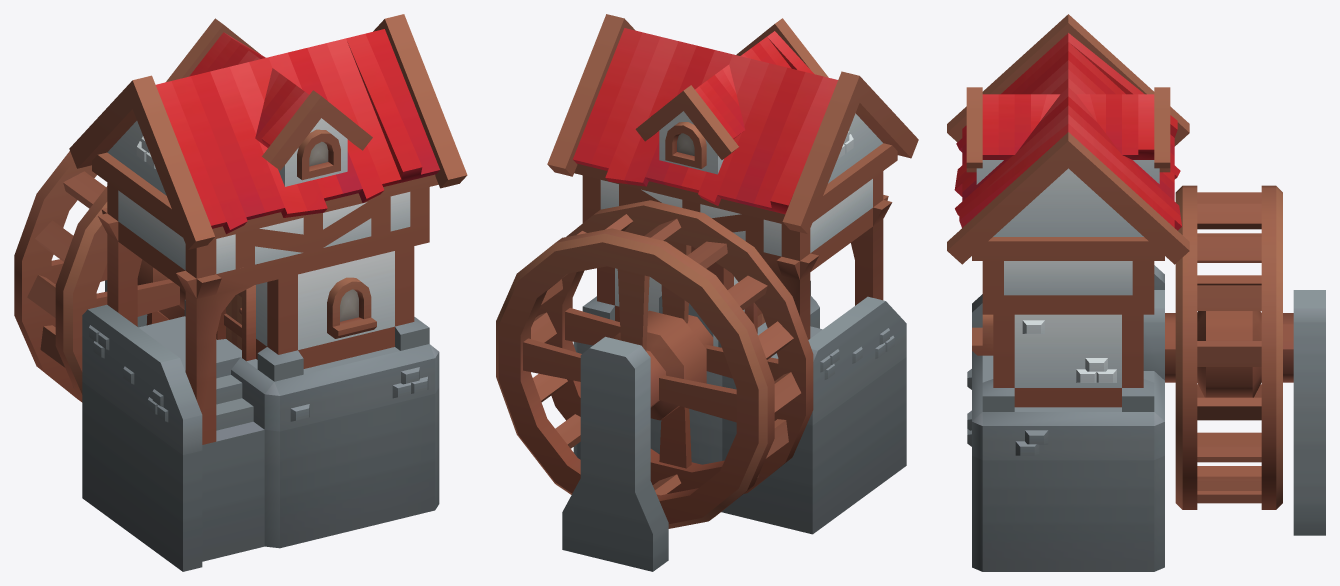
File: k-watermill-kaykit.glb
The picture shows the model from 3 angles, left to right: view 1: azimuth 30°, elevation 25°; view 2: azimuth 150°, elevation 25°; view 3: azimuth 270°, elevation 25°; orthographic projection. The views are drawn at different scales.
Parts seen in each view (by area): view 1: building_watermill_red, building_watermill_wheel_red; view 2: building_watermill_red, building_watermill_wheel_red; view 3: building_watermill_red, building_watermill_wheel_red.
Part boxes in pixels (box(x1,y1,x2,y2)): building_watermill_red: box(69, 14, 467, 571); building_watermill_wheel_red: box(14, 151, 185, 402); building_watermill_red: box(547, 14, 918, 571); building_watermill_wheel_red: box(496, 200, 813, 528); building_watermill_red: box(947, 14, 1325, 571); building_watermill_wheel_red: box(1165, 185, 1293, 509).
Size of the model in its own units: 1.05 by 1.57 by 1.24.
Materials: 1 (1 with a texture image).
